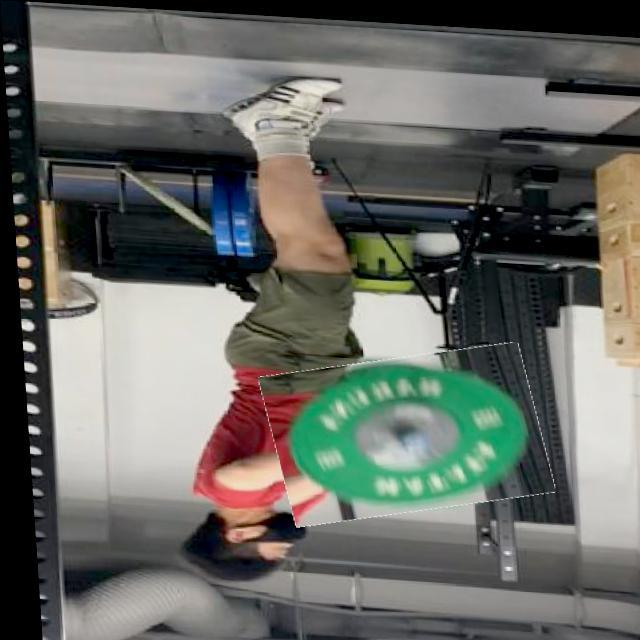barbell: (258, 337, 547, 525)
